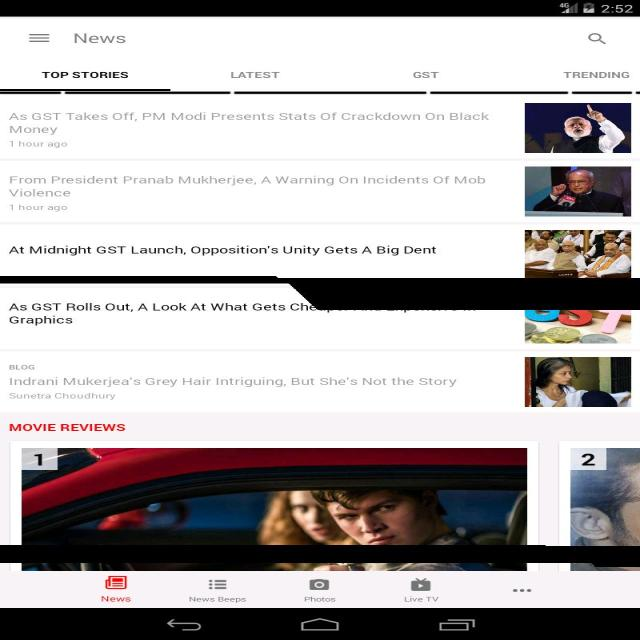button: (1, 64, 170, 92), (184, 62, 319, 90), (362, 61, 491, 88), (533, 63, 640, 89), (187, 571, 249, 607), (390, 572, 452, 608), (290, 572, 350, 608), (88, 571, 144, 607), (496, 572, 546, 609), (24, 29, 56, 50), (585, 29, 615, 49)
heading: (5, 420, 128, 435), (72, 29, 132, 50)
image: (24, 448, 528, 572), (524, 356, 632, 406), (526, 167, 631, 217), (527, 103, 630, 153), (524, 230, 632, 276), (527, 308, 632, 346)
text: (4, 363, 486, 402), (9, 112, 489, 150), (5, 175, 495, 212), (6, 300, 499, 332), (5, 243, 453, 262)
